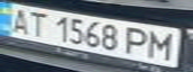1: (48, 14, 72, 44)
5: (66, 16, 87, 46)
6: (81, 19, 103, 49)
8: (100, 21, 124, 52)
A: (3, 5, 33, 35)
M: (145, 28, 181, 61)
P: (121, 25, 154, 56)
T: (24, 8, 51, 38)
